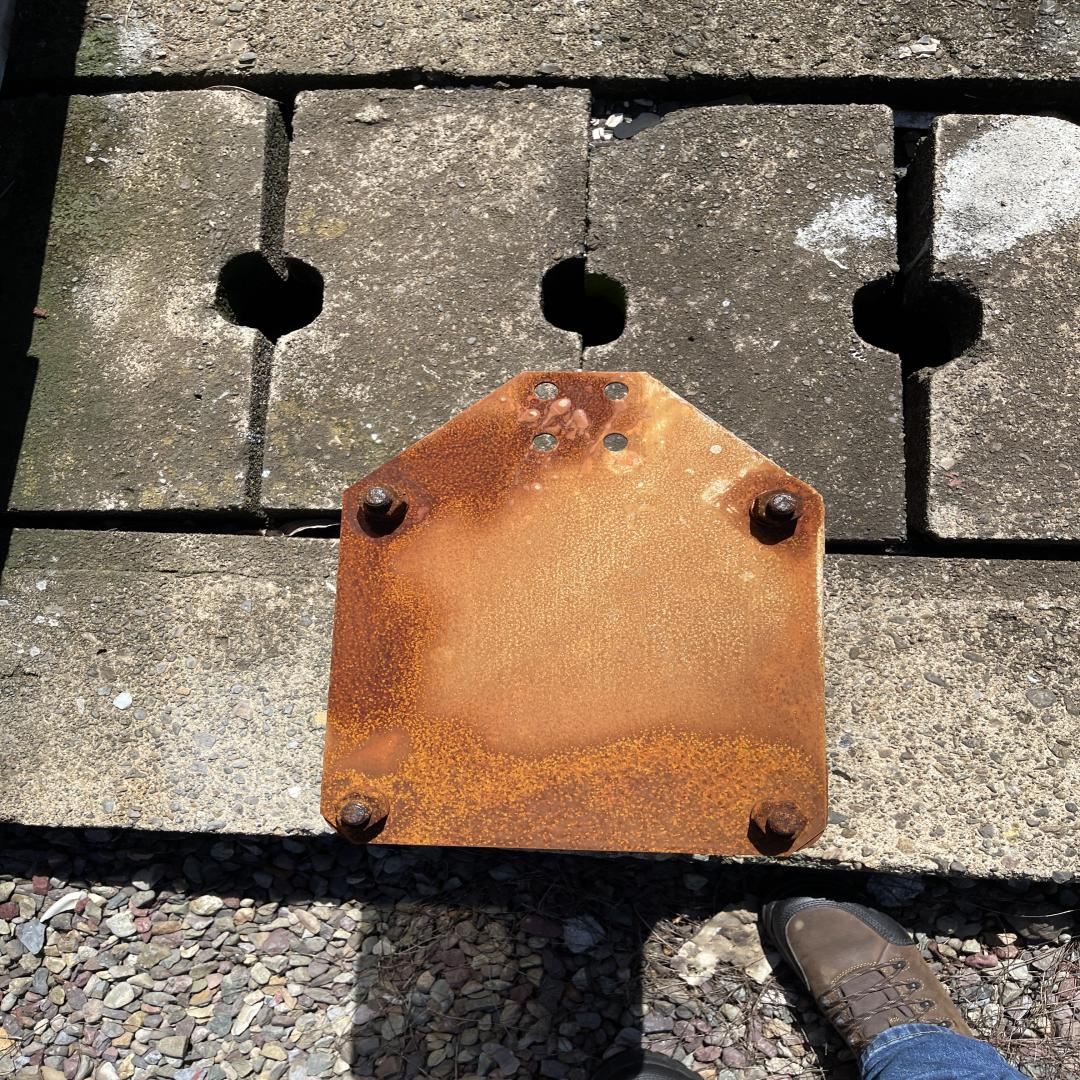Metal corroido: (322, 371, 827, 854)
